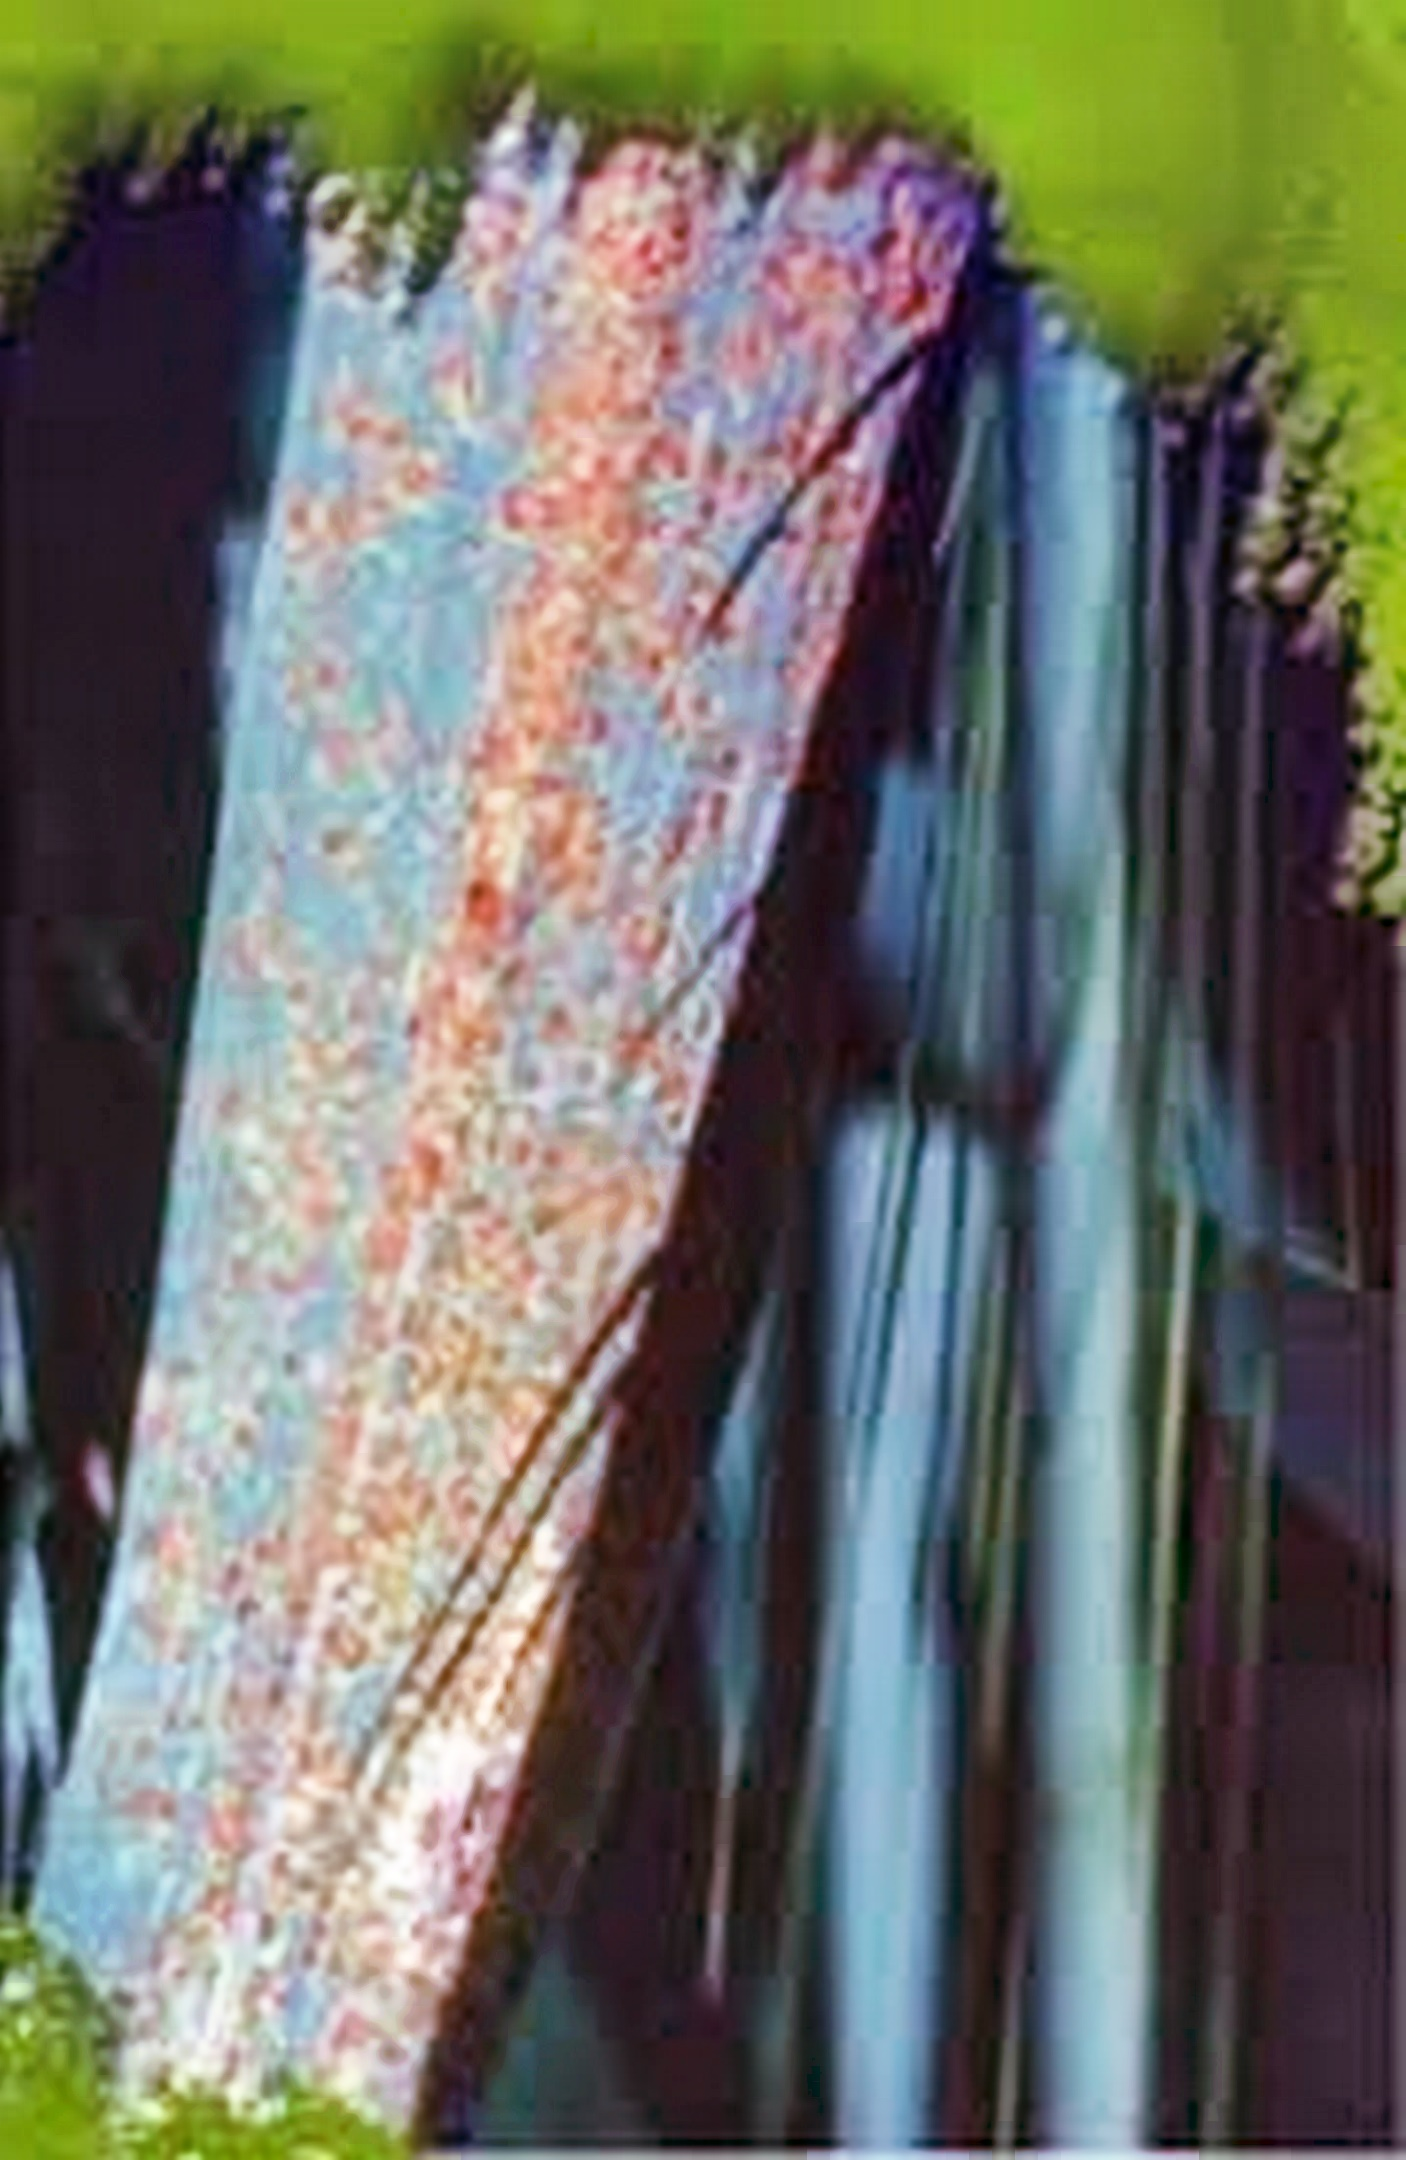Leaf Rust: (139, 290, 879, 1847)
